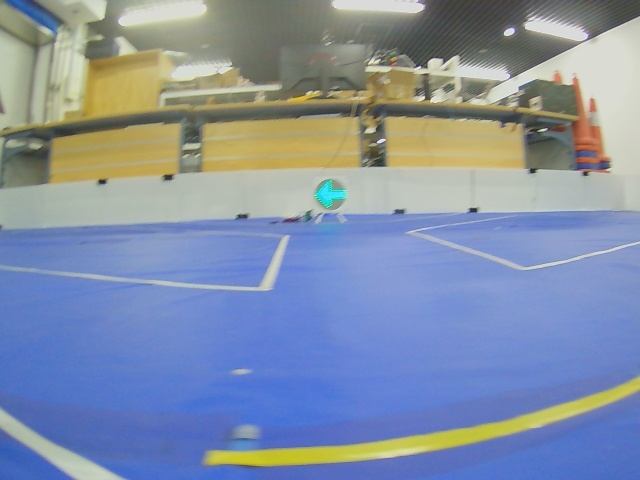left_green: (314, 179, 348, 210)
